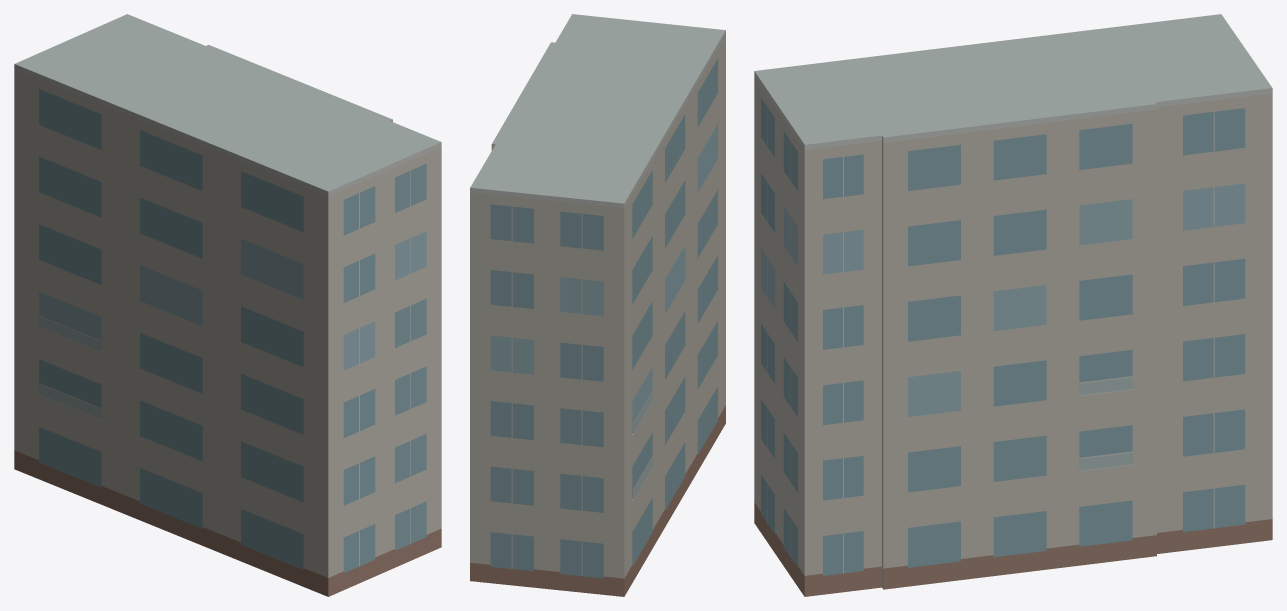
The model's file is survey-upis-32563439.glb.
3 renders of one model, left to right at view 1: azimuth 30°, elevation 25°; view 2: azimuth 150°, elevation 25°; view 3: azimuth 270°, elevation 25°, orthographic. The views are drawn at different scales.
Parts seen in each view (by area): view 1: survey-upis-32563439.tmp; view 2: survey-upis-32563439.tmp; view 3: survey-upis-32563439.tmp.
Boxes of the visible parts, x1,y1,x2,y2 form: survey-upis-32563439.tmp: (14,14,441,596); survey-upis-32563439.tmp: (470,14,725,596); survey-upis-32563439.tmp: (754,14,1272,596).
Size of the model in its own units: 12.78 by 20.58 by 21.39.
